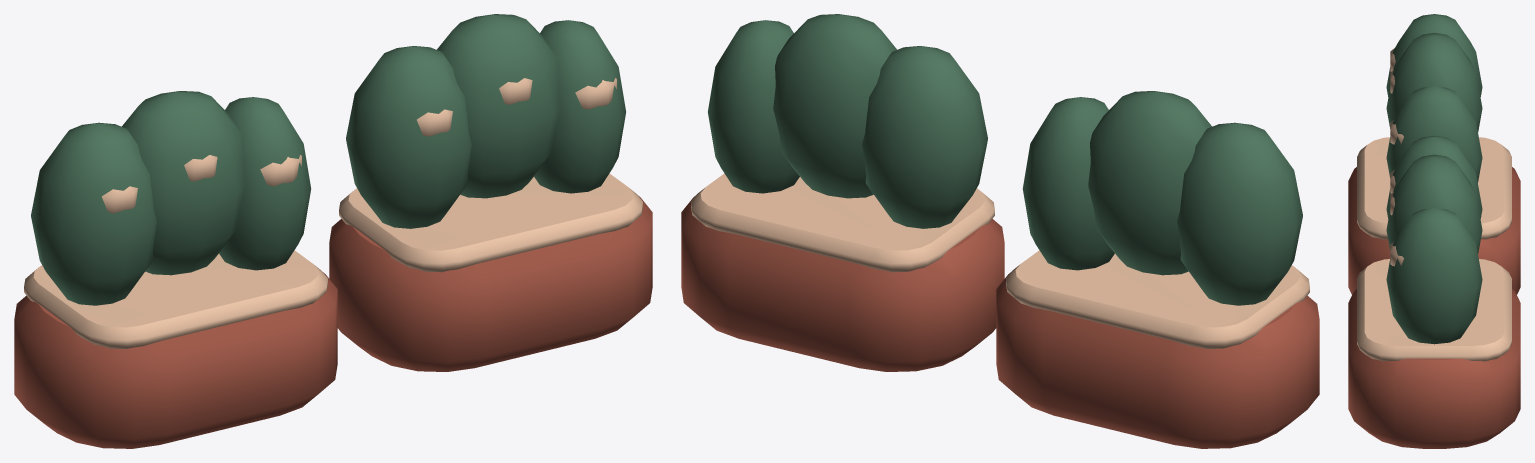
Rendered from planter_5.glb.
The picture shows the model from 3 angles, left to right: view 1: azimuth 30°, elevation 25°; view 2: azimuth 150°, elevation 25°; view 3: azimuth 270°, elevation 25°; orthographic projection. The views are drawn at different scales.
Visible parts, largest first — view 1: Planter; view 2: Planter; view 3: Planter.
Part boxes in pixels (box(x1,y1,x2,y2)): Planter: box(14, 14, 652, 448); Planter: box(681, 14, 1319, 448); Planter: box(1348, 14, 1520, 448).
Bounding box in the file's own units: 2.52 × 1.22 × 0.79.
